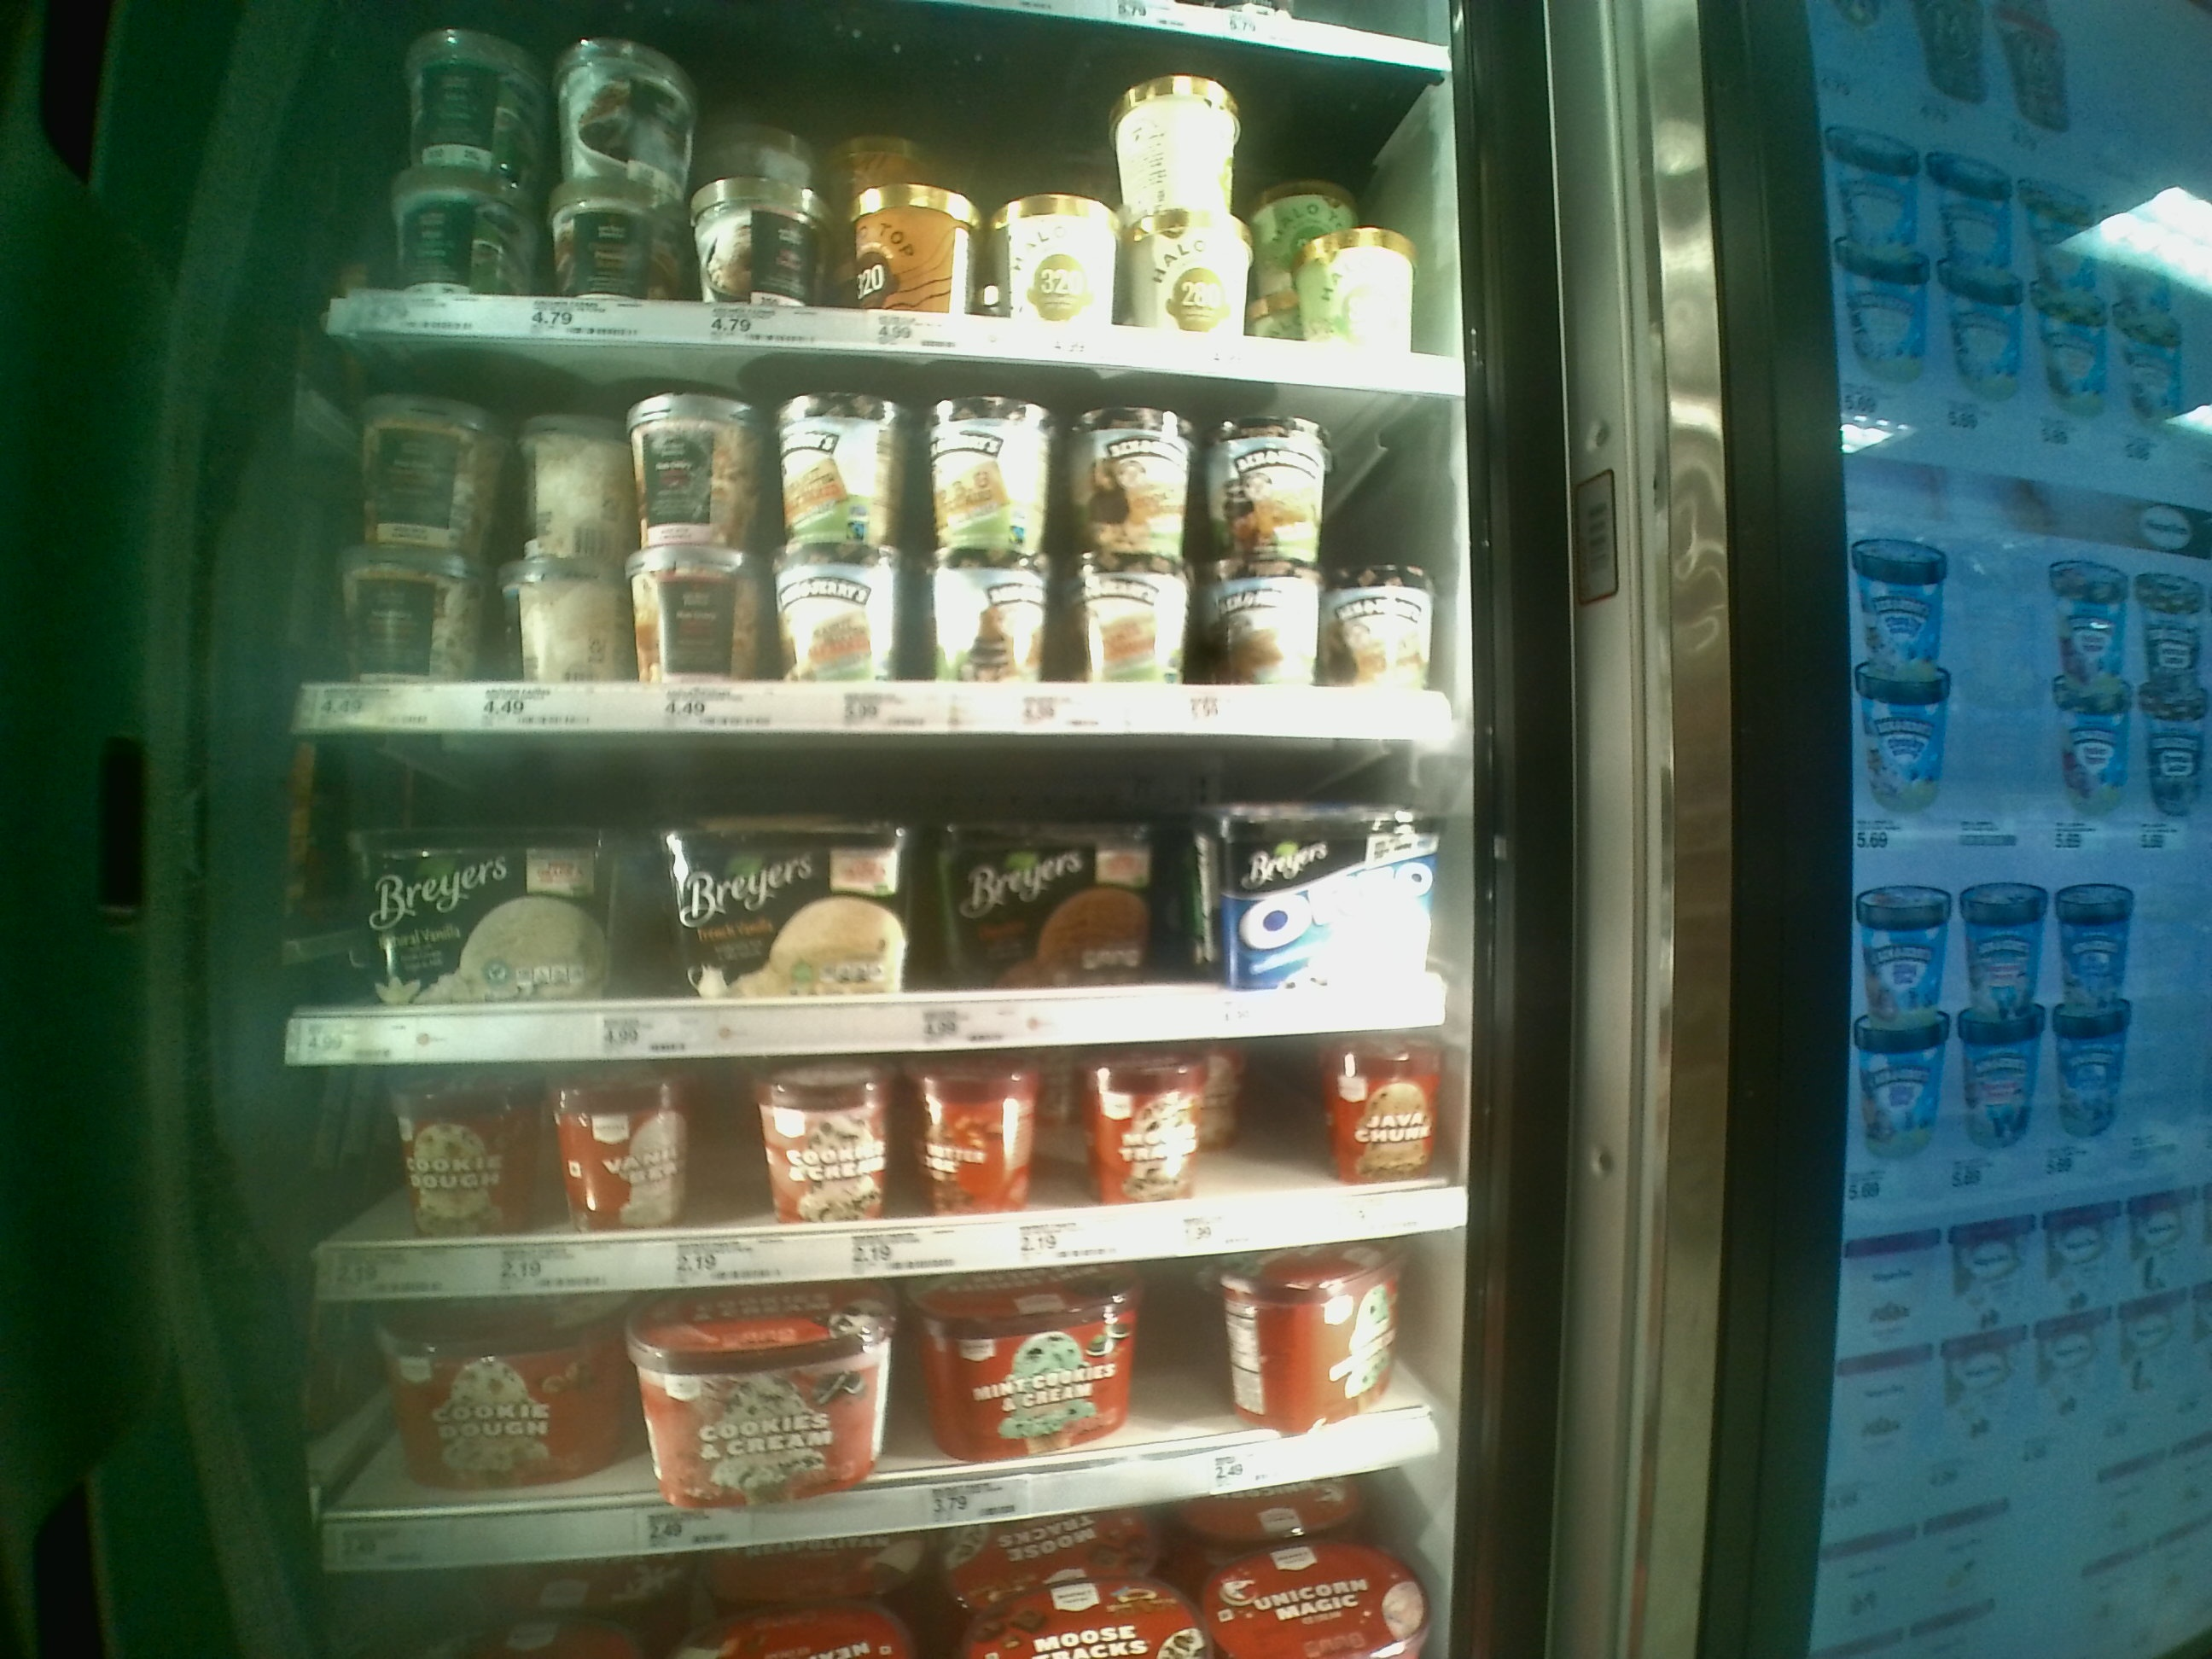shelf: (310, 362, 1456, 723), (291, 732, 1474, 1042), (296, 1246, 1447, 1556), (289, 1049, 1456, 1288)
